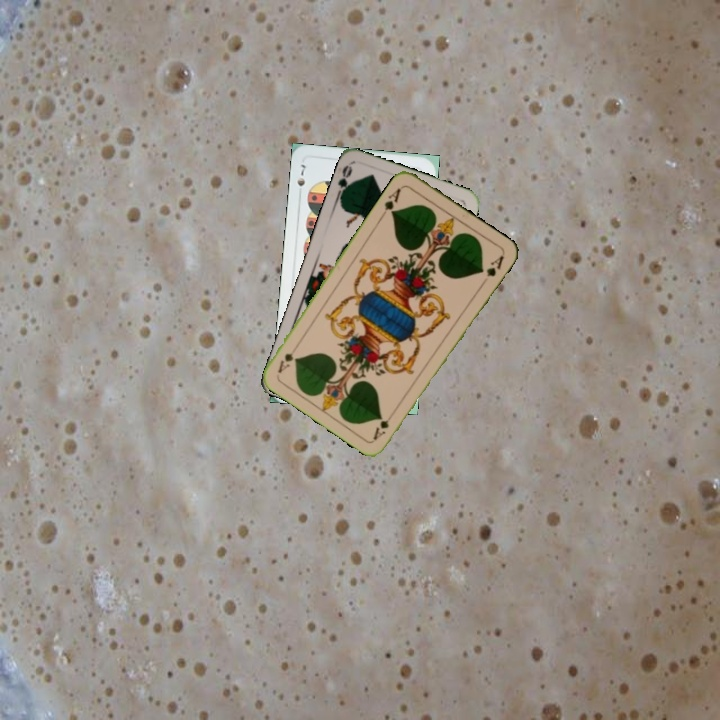GA: (369, 407, 398, 442), (377, 183, 405, 219)
GO: (332, 161, 355, 202)
S7: (293, 160, 308, 189)
